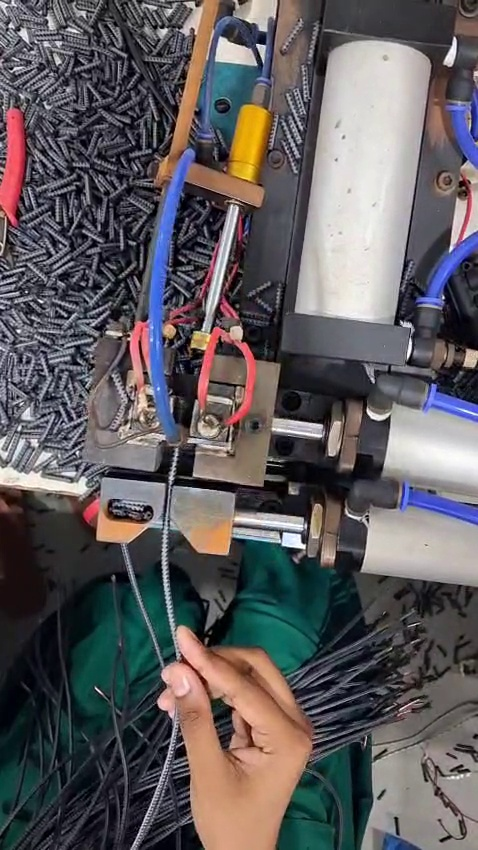intact_wire: (153, 435, 195, 542)
machine: (73, 318, 306, 535)
